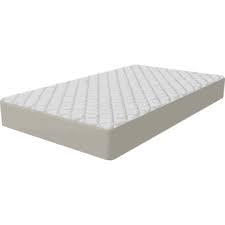bed-matress: (1, 65, 223, 160)
